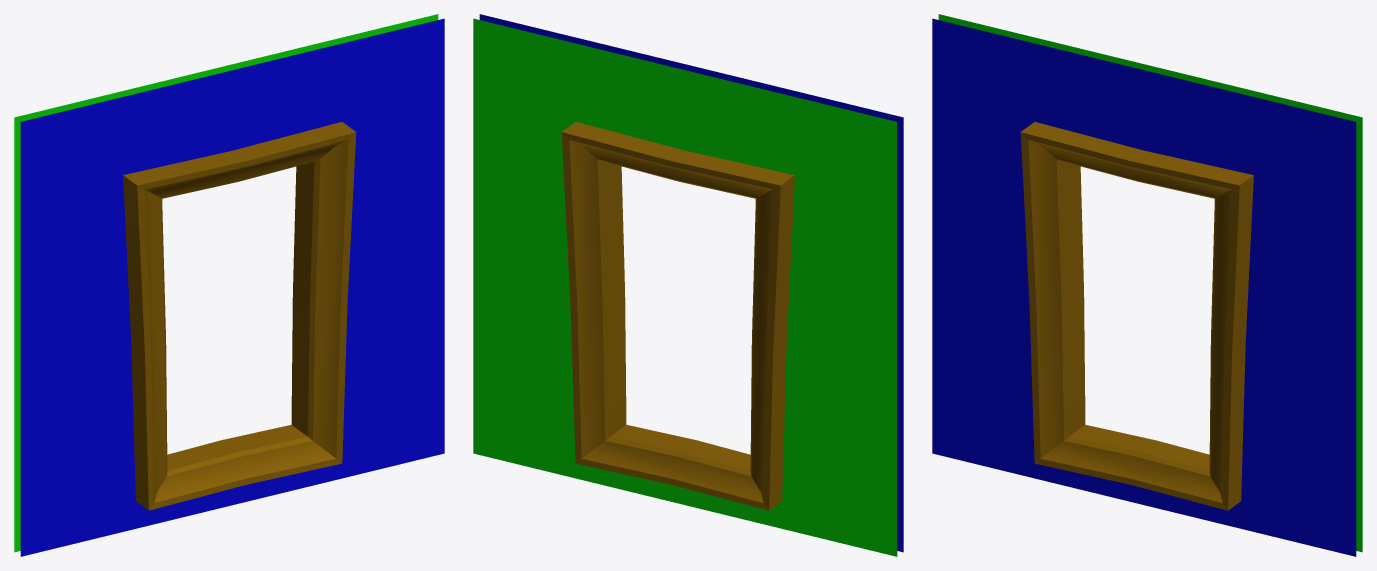
File: paredventana2.fbx
3 renders of one model, left to right at view 1: azimuth 30°, elevation 25°; view 2: azimuth 150°, elevation 25°; view 3: azimuth 330°, elevation 25°, orthographic.
Visible parts, largest first — view 1: paredventana2; view 2: paredventana2; view 3: paredventana2.
Boxes of the visible parts, bbox=[...] form: paredventana2: bbox=[14, 14, 444, 556]; paredventana2: bbox=[473, 14, 903, 556]; paredventana2: bbox=[932, 14, 1362, 556].
Size of the model in its own units: 265 by 260 by 37.38.
